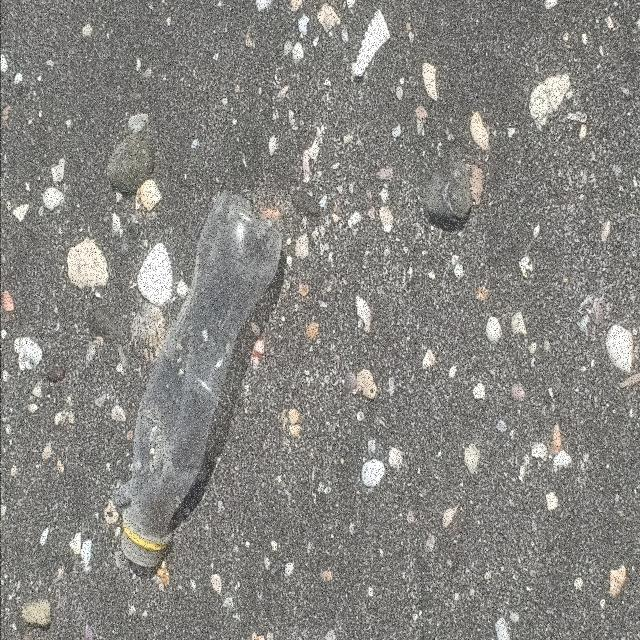plastic_waste: (120, 191, 285, 569)
